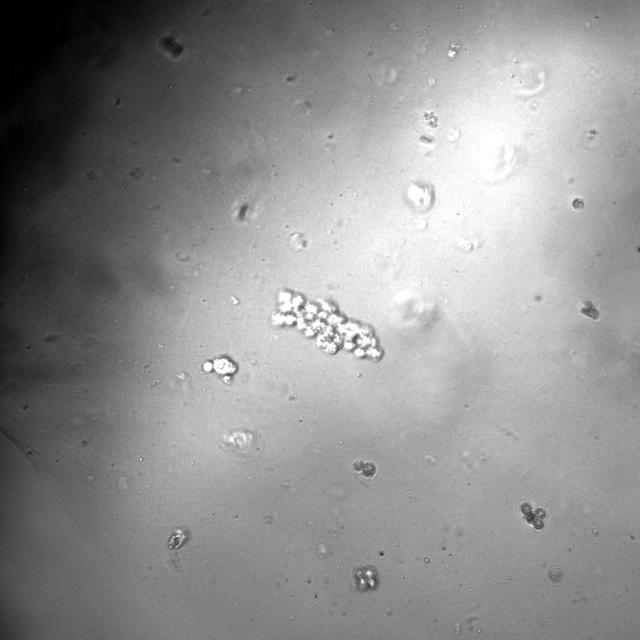organoid: (271, 289, 382, 361), (202, 354, 238, 385), (156, 32, 186, 61), (520, 503, 547, 530), (352, 565, 379, 592), (168, 528, 188, 549), (353, 460, 376, 478), (580, 300, 599, 320), (571, 197, 584, 210)
